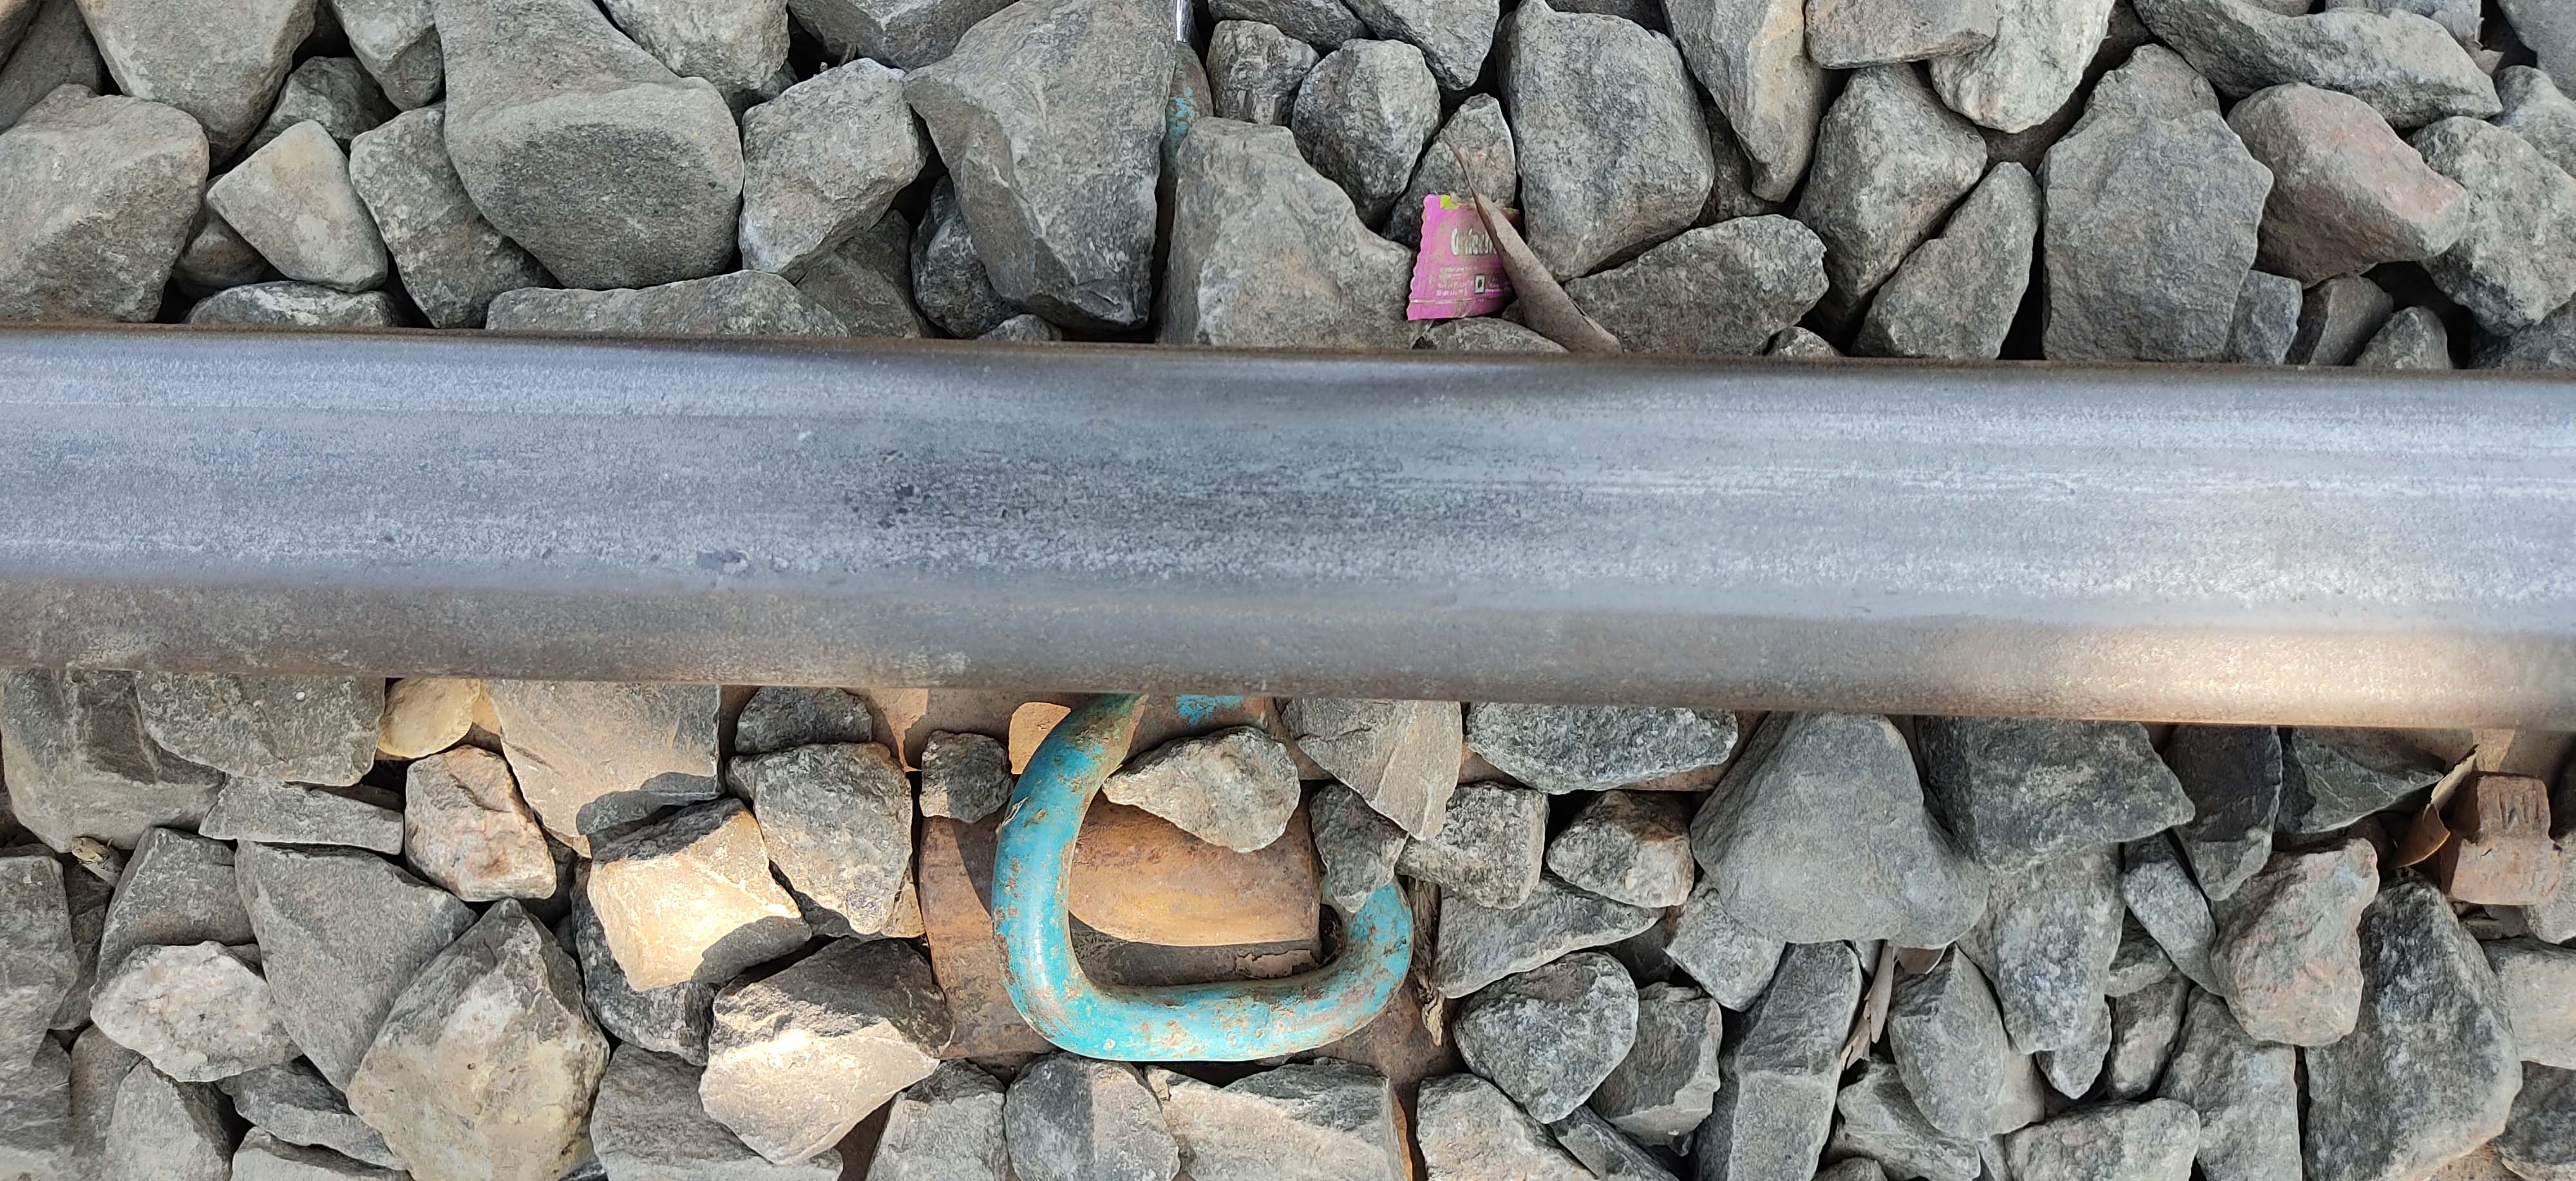error1: (927, 646, 1474, 1143)
